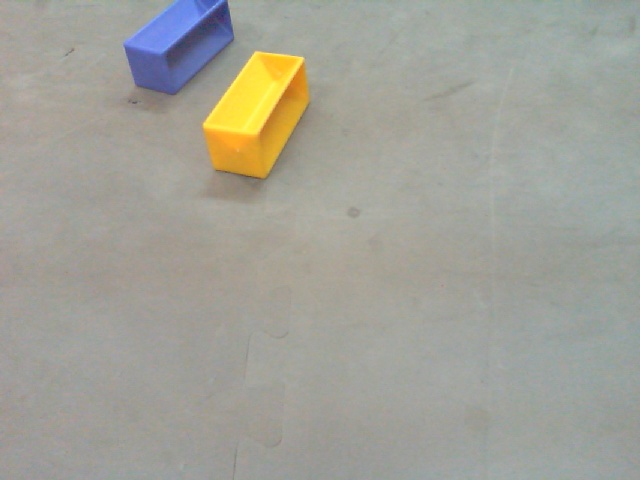BlueSample: (123, 1, 232, 95)
YellowSample: (203, 51, 311, 180)
